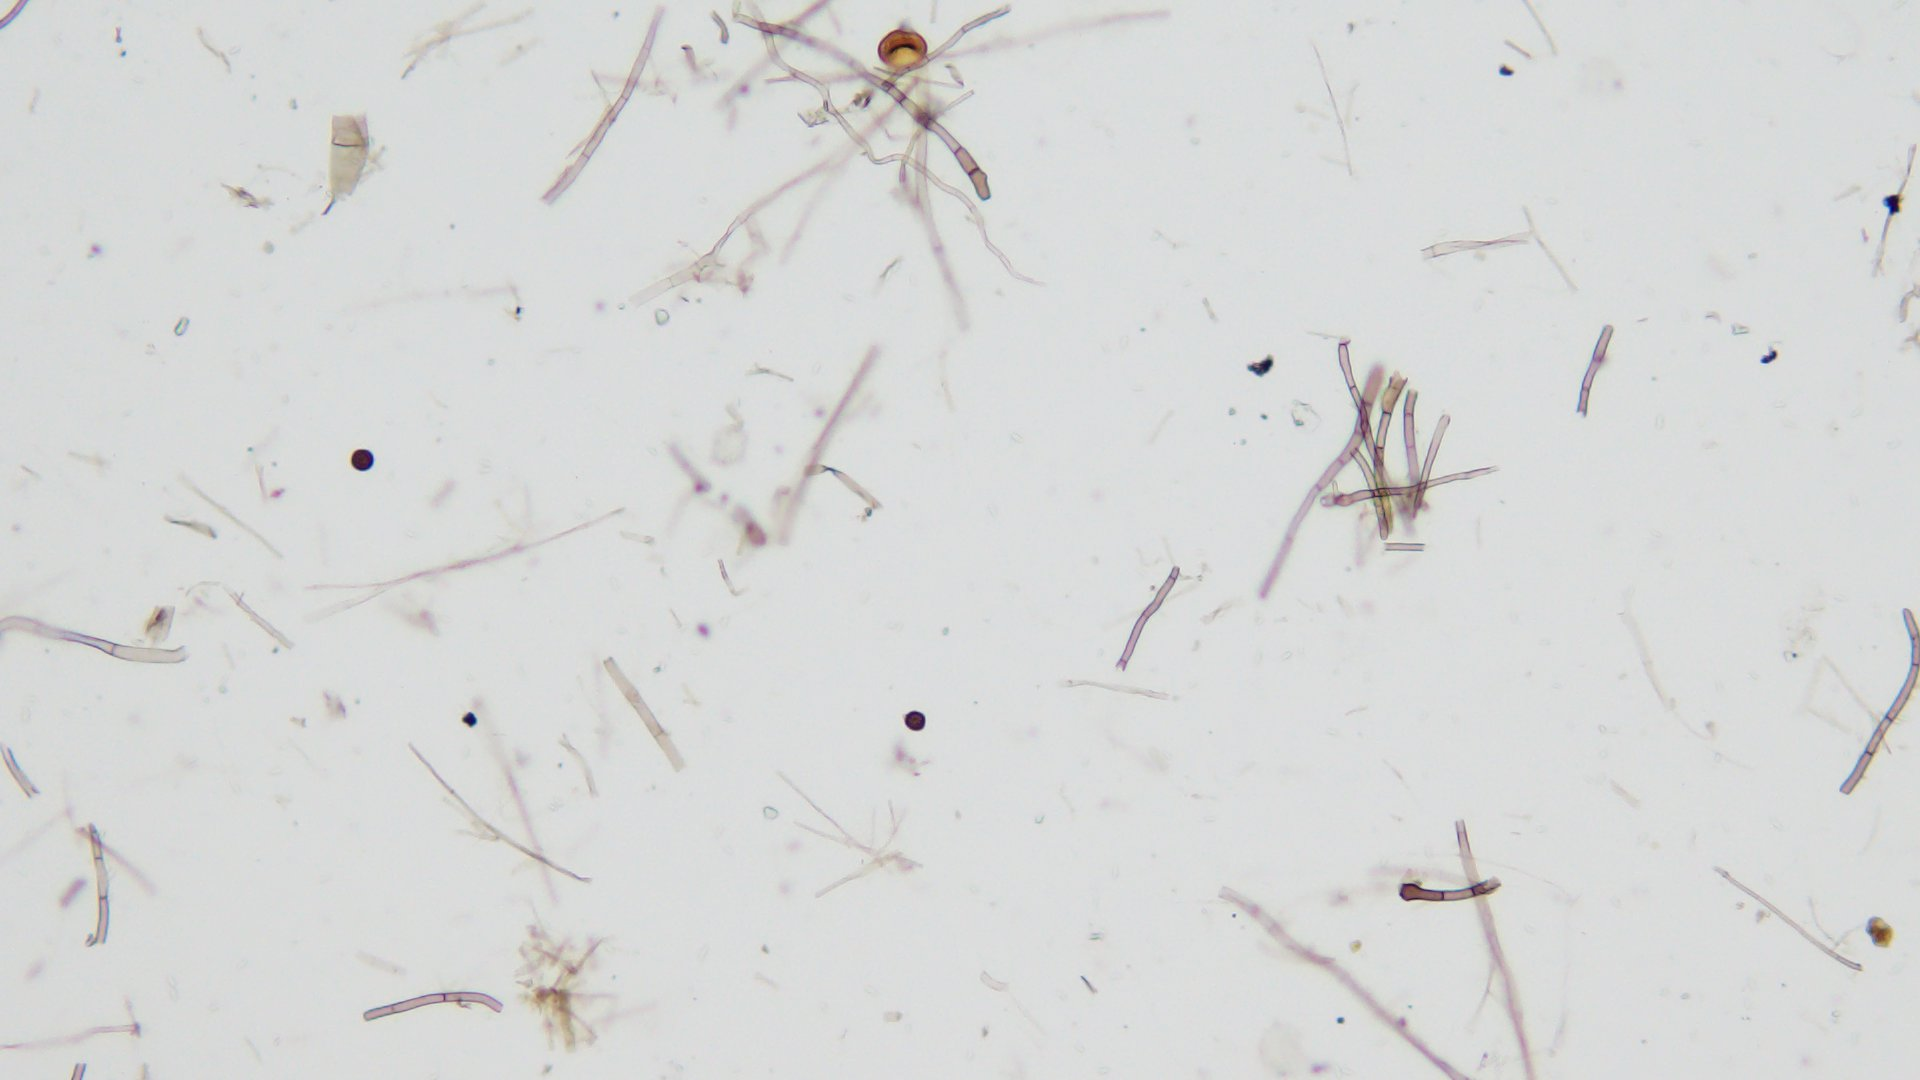shs_spore: (903, 709, 930, 732), (349, 448, 375, 469)
xb_spore: (880, 28, 928, 67)
